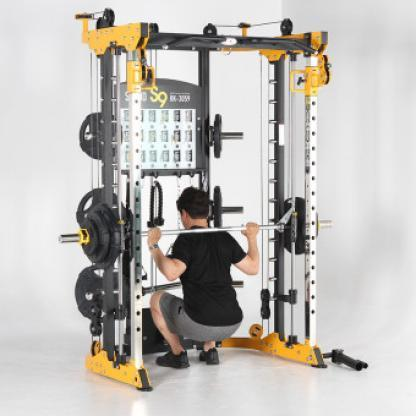smith machine: (59, 8, 333, 393)
